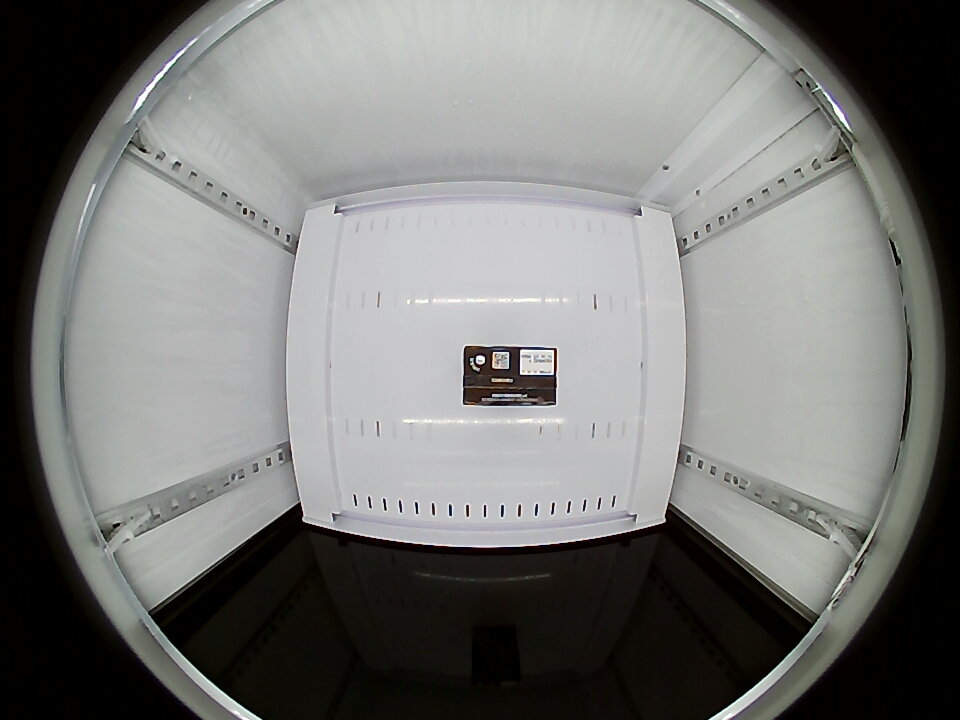weitanai2: (463, 347, 558, 407)
